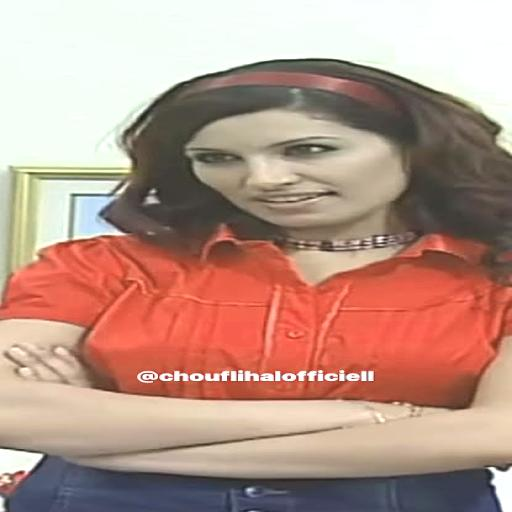Dalanda: (185, 105, 410, 230)
